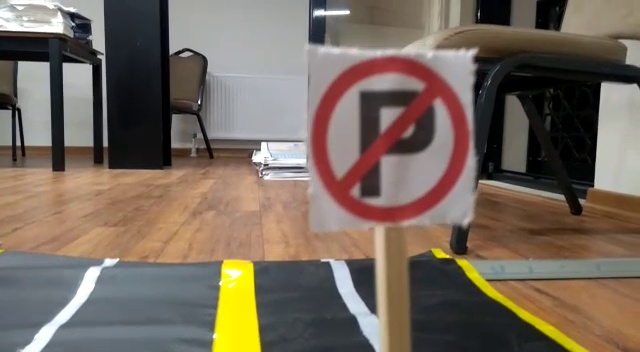park_yapilmaz: (309, 48, 471, 222)
